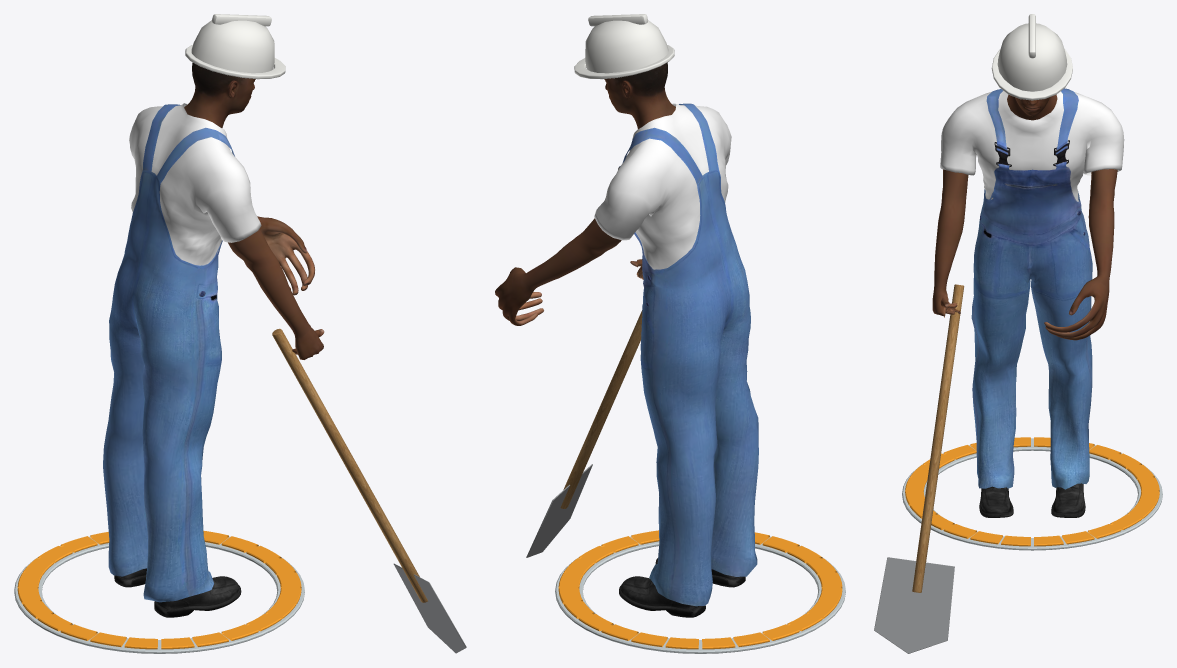
The model's file is MDO-OBR-001.glb.
3 renders of one model, left to right at view 1: azimuth 30°, elevation 25°; view 2: azimuth 150°, elevation 25°; view 3: azimuth 270°, elevation 25°, orthographic. The views are drawn at different scales.
Visible parts, largest first — view 1: MDO-OBR-001_pessoa_male_worksuit01, MDO-OBR-001_pessoa, MDO-OBR-001_capacete, MDO-OBR-001_ferD_cabo, MDO-OBR-001_anel_fundo, MDO-OBR-001_pessoa_shoes04, MDO-OBR-001_ferD_lamina, MDO-OBR-001_capacete_aba; view 2: MDO-OBR-001_pessoa_male_worksuit01, MDO-OBR-001_pessoa, MDO-OBR-001_capacete, MDO-OBR-001_anel_fundo, MDO-OBR-001_ferD_cabo, MDO-OBR-001_pessoa_shoes04, MDO-OBR-001_ferD_lamina, MDO-OBR-001_capacete_aba, MDO-OBR-001_capacete_friso; view 3: MDO-OBR-001_pessoa_male_worksuit01, MDO-OBR-001_pessoa, MDO-OBR-001_ferD_lamina, MDO-OBR-001_capacete, MDO-OBR-001_ferD_cabo, MDO-OBR-001_anel_fundo, MDO-OBR-001_pessoa_shoes04, MDO-OBR-001_capacete_aba.
Part boxes in pixels (x1,y1,x2,y2): MDO-OBR-001_pessoa_male_worksuit01: [103, 103, 261, 602]; MDO-OBR-001_pessoa: [184, 62, 324, 359]; MDO-OBR-001_capacete: [191, 20, 274, 73]; MDO-OBR-001_ferD_cabo: [272, 328, 427, 602]; MDO-OBR-001_anel_fundo: [14, 536, 304, 653]; MDO-OBR-001_pessoa_shoes04: [114, 568, 241, 617]; MDO-OBR-001_ferD_lamina: [393, 563, 466, 653]; MDO-OBR-001_capacete_aba: [185, 45, 285, 79]; MDO-OBR-001_pessoa_male_worksuit01: [594, 103, 758, 606]; MDO-OBR-001_pessoa: [495, 62, 675, 325]; MDO-OBR-001_capacete: [585, 20, 668, 73]; MDO-OBR-001_anel_fundo: [555, 536, 845, 653]; MDO-OBR-001_ferD_cabo: [560, 310, 642, 508]; MDO-OBR-001_pessoa_shoes04: [619, 558, 745, 617]; MDO-OBR-001_ferD_lamina: [526, 464, 592, 557]; MDO-OBR-001_capacete_aba: [574, 45, 674, 79]; MDO-OBR-001_capacete_friso: [588, 14, 647, 26]; MDO-OBR-001_pessoa_male_worksuit01: [940, 88, 1124, 489]; MDO-OBR-001_pessoa: [932, 94, 1117, 340]; MDO-OBR-001_ferD_lamina: [874, 557, 954, 653]; MDO-OBR-001_capacete: [997, 23, 1067, 91]; MDO-OBR-001_ferD_cabo: [912, 284, 964, 592]; MDO-OBR-001_anel_fundo: [902, 438, 1162, 550]; MDO-OBR-001_pessoa_shoes04: [979, 483, 1085, 517]; MDO-OBR-001_capacete_aba: [991, 49, 1072, 100].
Bounding box in the file's own units: 1.18 × 2.01 × 0.93.
Materials: 10 (6 with a texture image).
